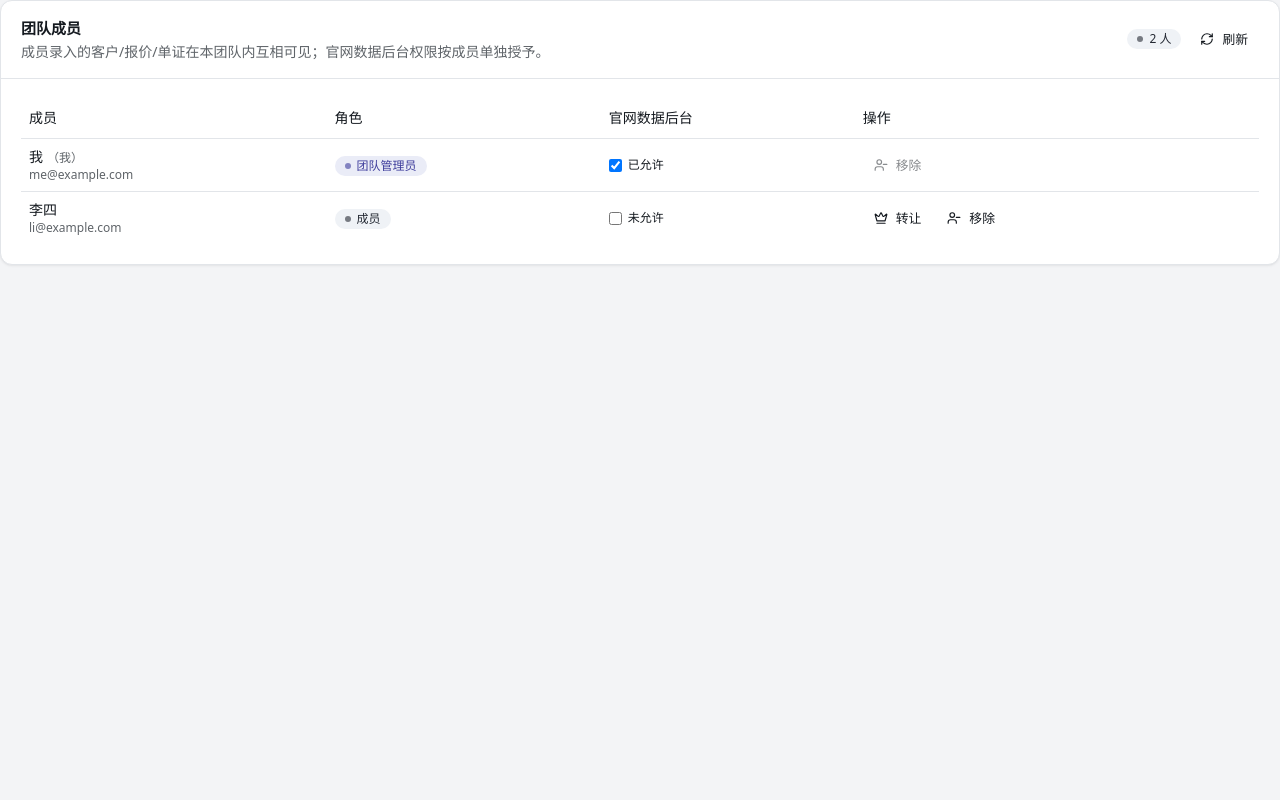
Test case: TeamMembersPanel 危险操作确认（U-P0B5） › 提交失败：原因留在弹窗里（不静默），弹窗保持可重试
Click the button "移除" in the row of "李四" at (971, 218), box x1=936 y1=204 x2=1006 y2=232
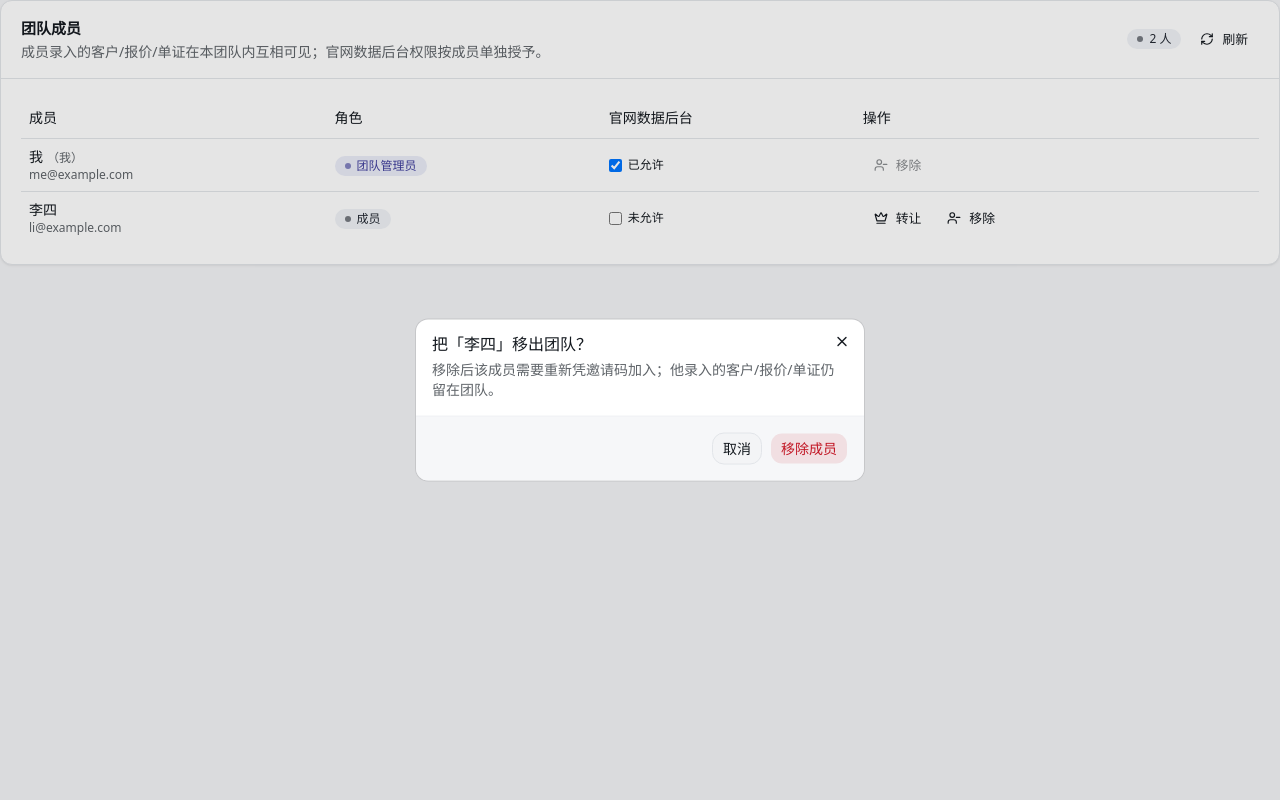
Click the button "移除成员" at (809, 448), box x1=770 y1=432 x2=848 y2=464
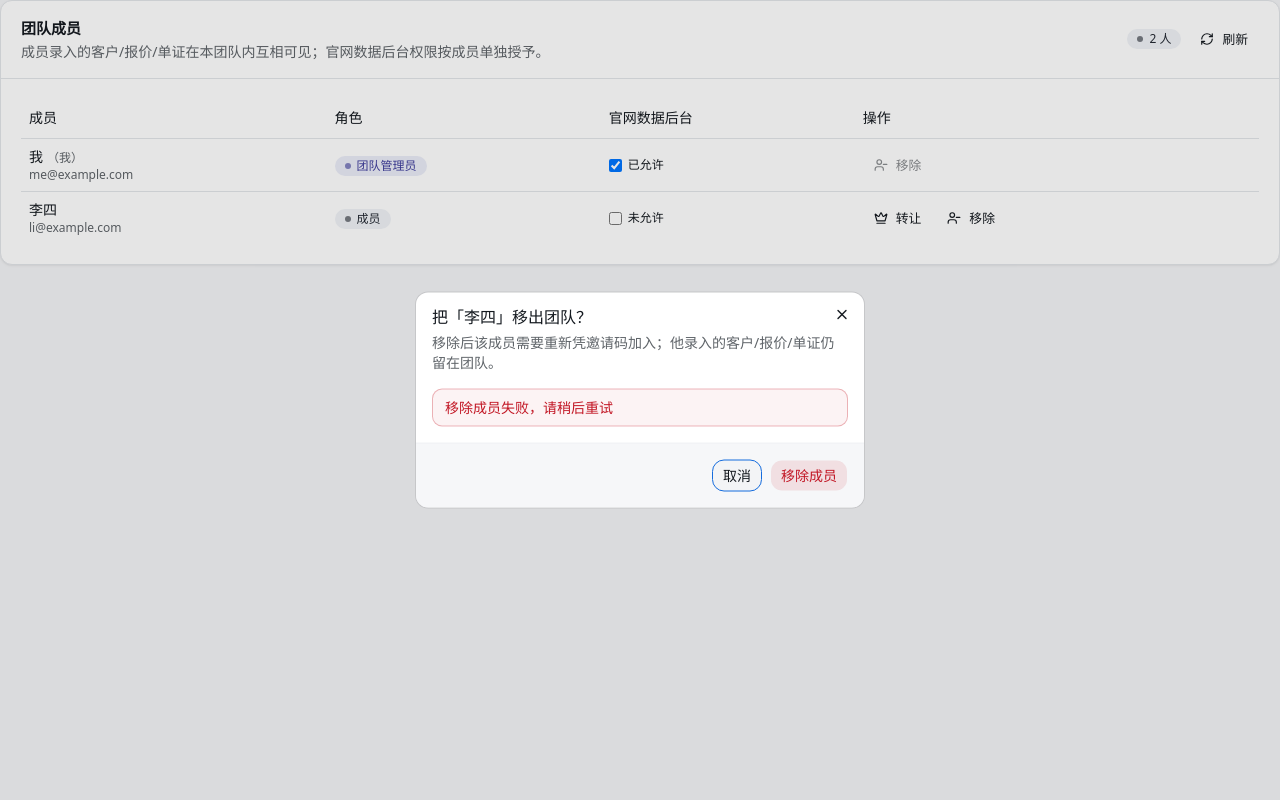
Now the text "把「李四」移出团队？" is shown, box x1=432 y1=306 x2=592 y2=328
Now the text "移除成员失败，请稍后重试" is shown, box x1=432 y1=388 x2=848 y2=426
